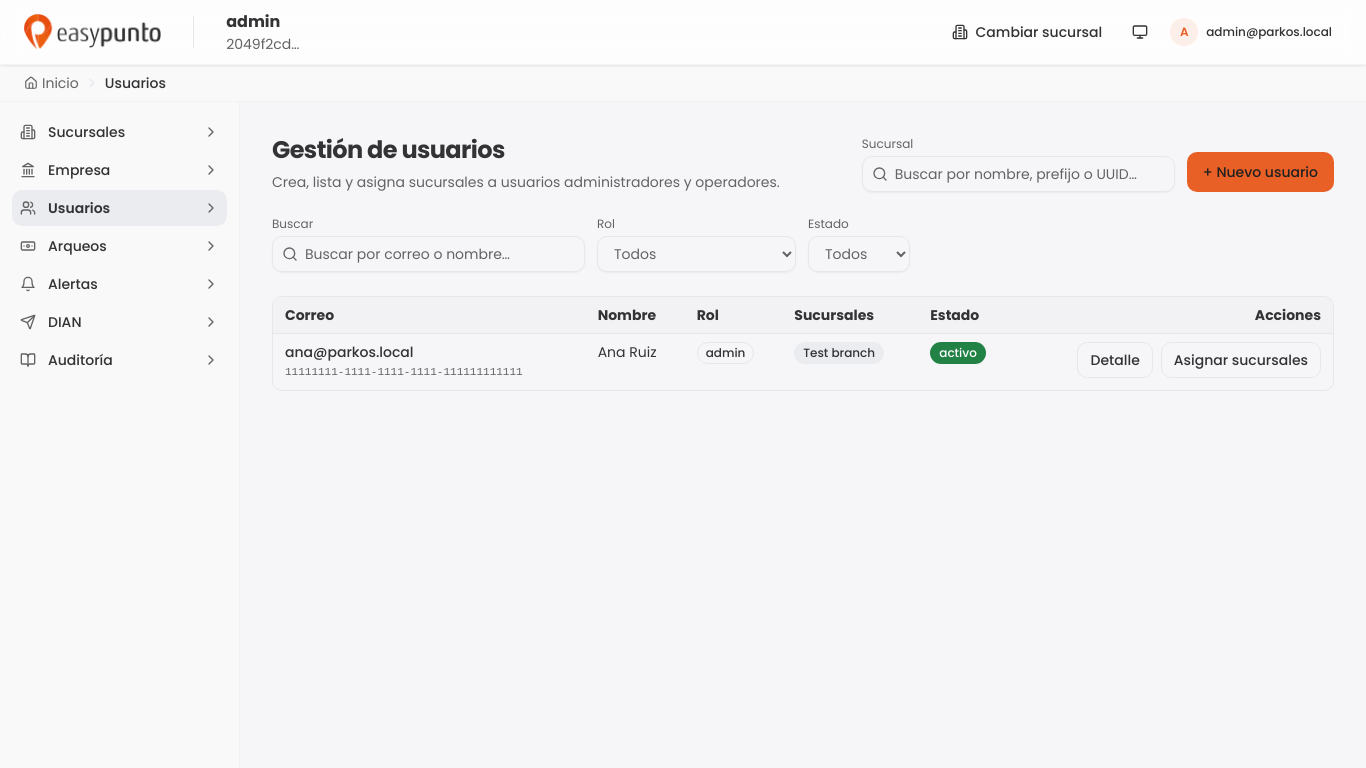
it: Alcance del detalle de usuario › navega al detalle al clickear el boton Detalle
Step 1. Click the link "Detalle" → x=1115, y=360, box [1078,342,1153,378]
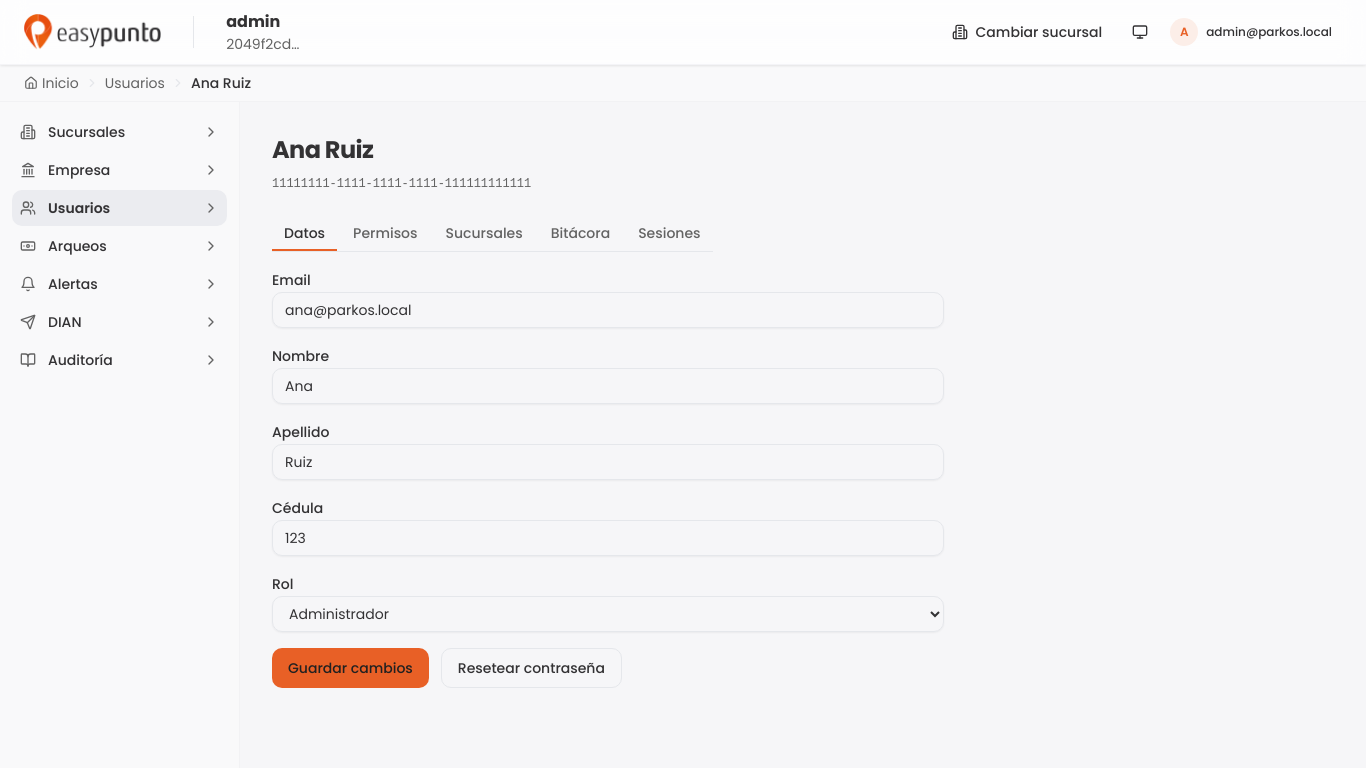
Result: the tab "Permisos" is shown at [341,217,430,251]
